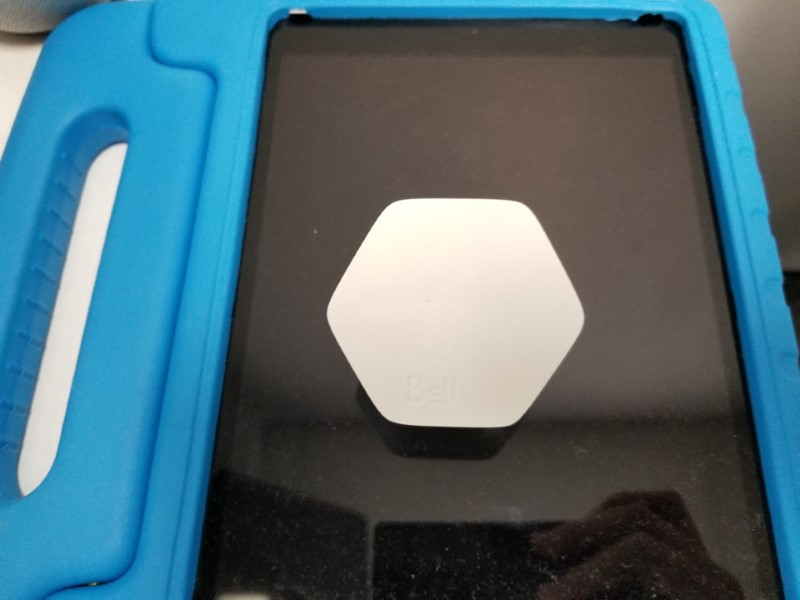pod: (317, 195, 589, 439)
